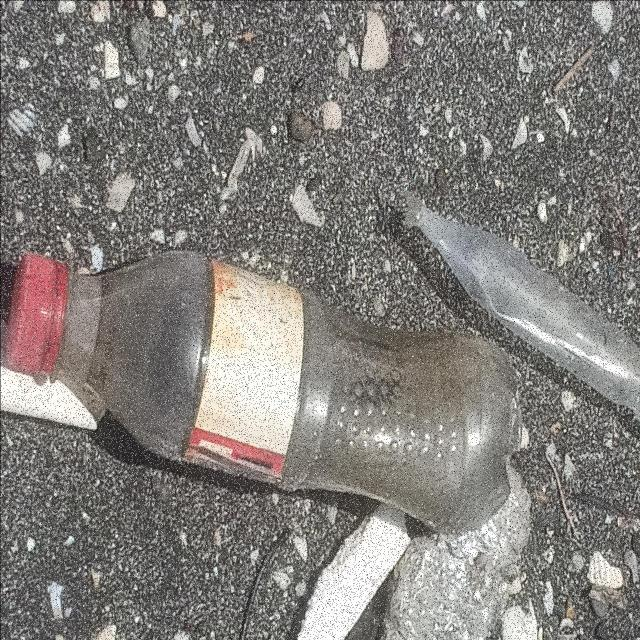plastic_waste: (6, 252, 523, 537)
styrofoam_waste: (297, 507, 412, 640)
